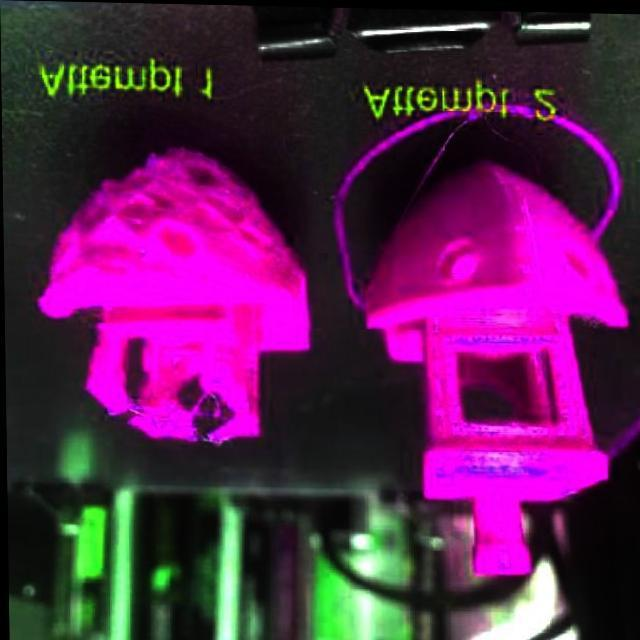spaghetti: (130, 389, 221, 428)
